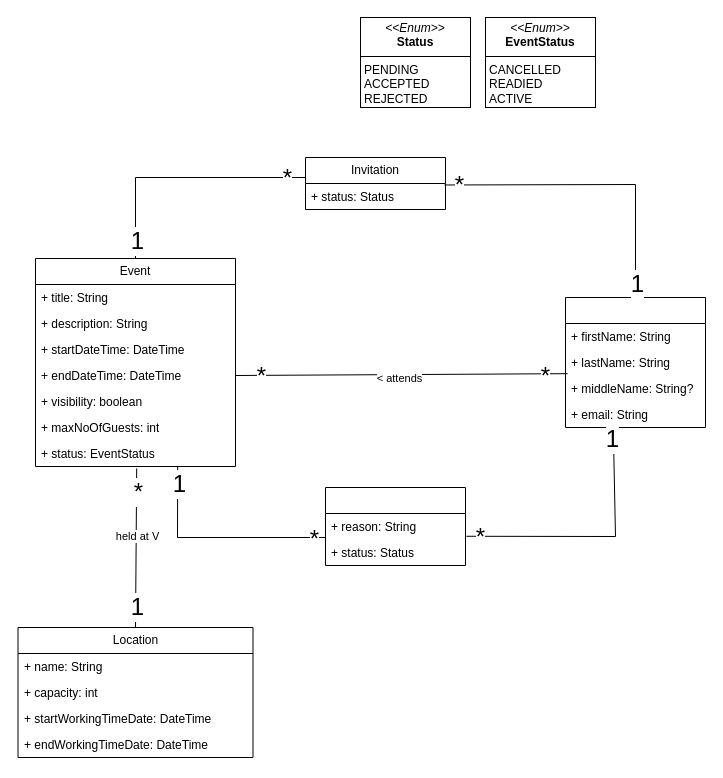
This 723x778 diagram has some shape labels left out. The shapes that lost their labels are listed below. From the top down, each one's box as (x1, y1, x2, y2) in pixels, then its label:
(564, 296, 706, 428): Guest
(324, 486, 466, 566): RequestToJoin
